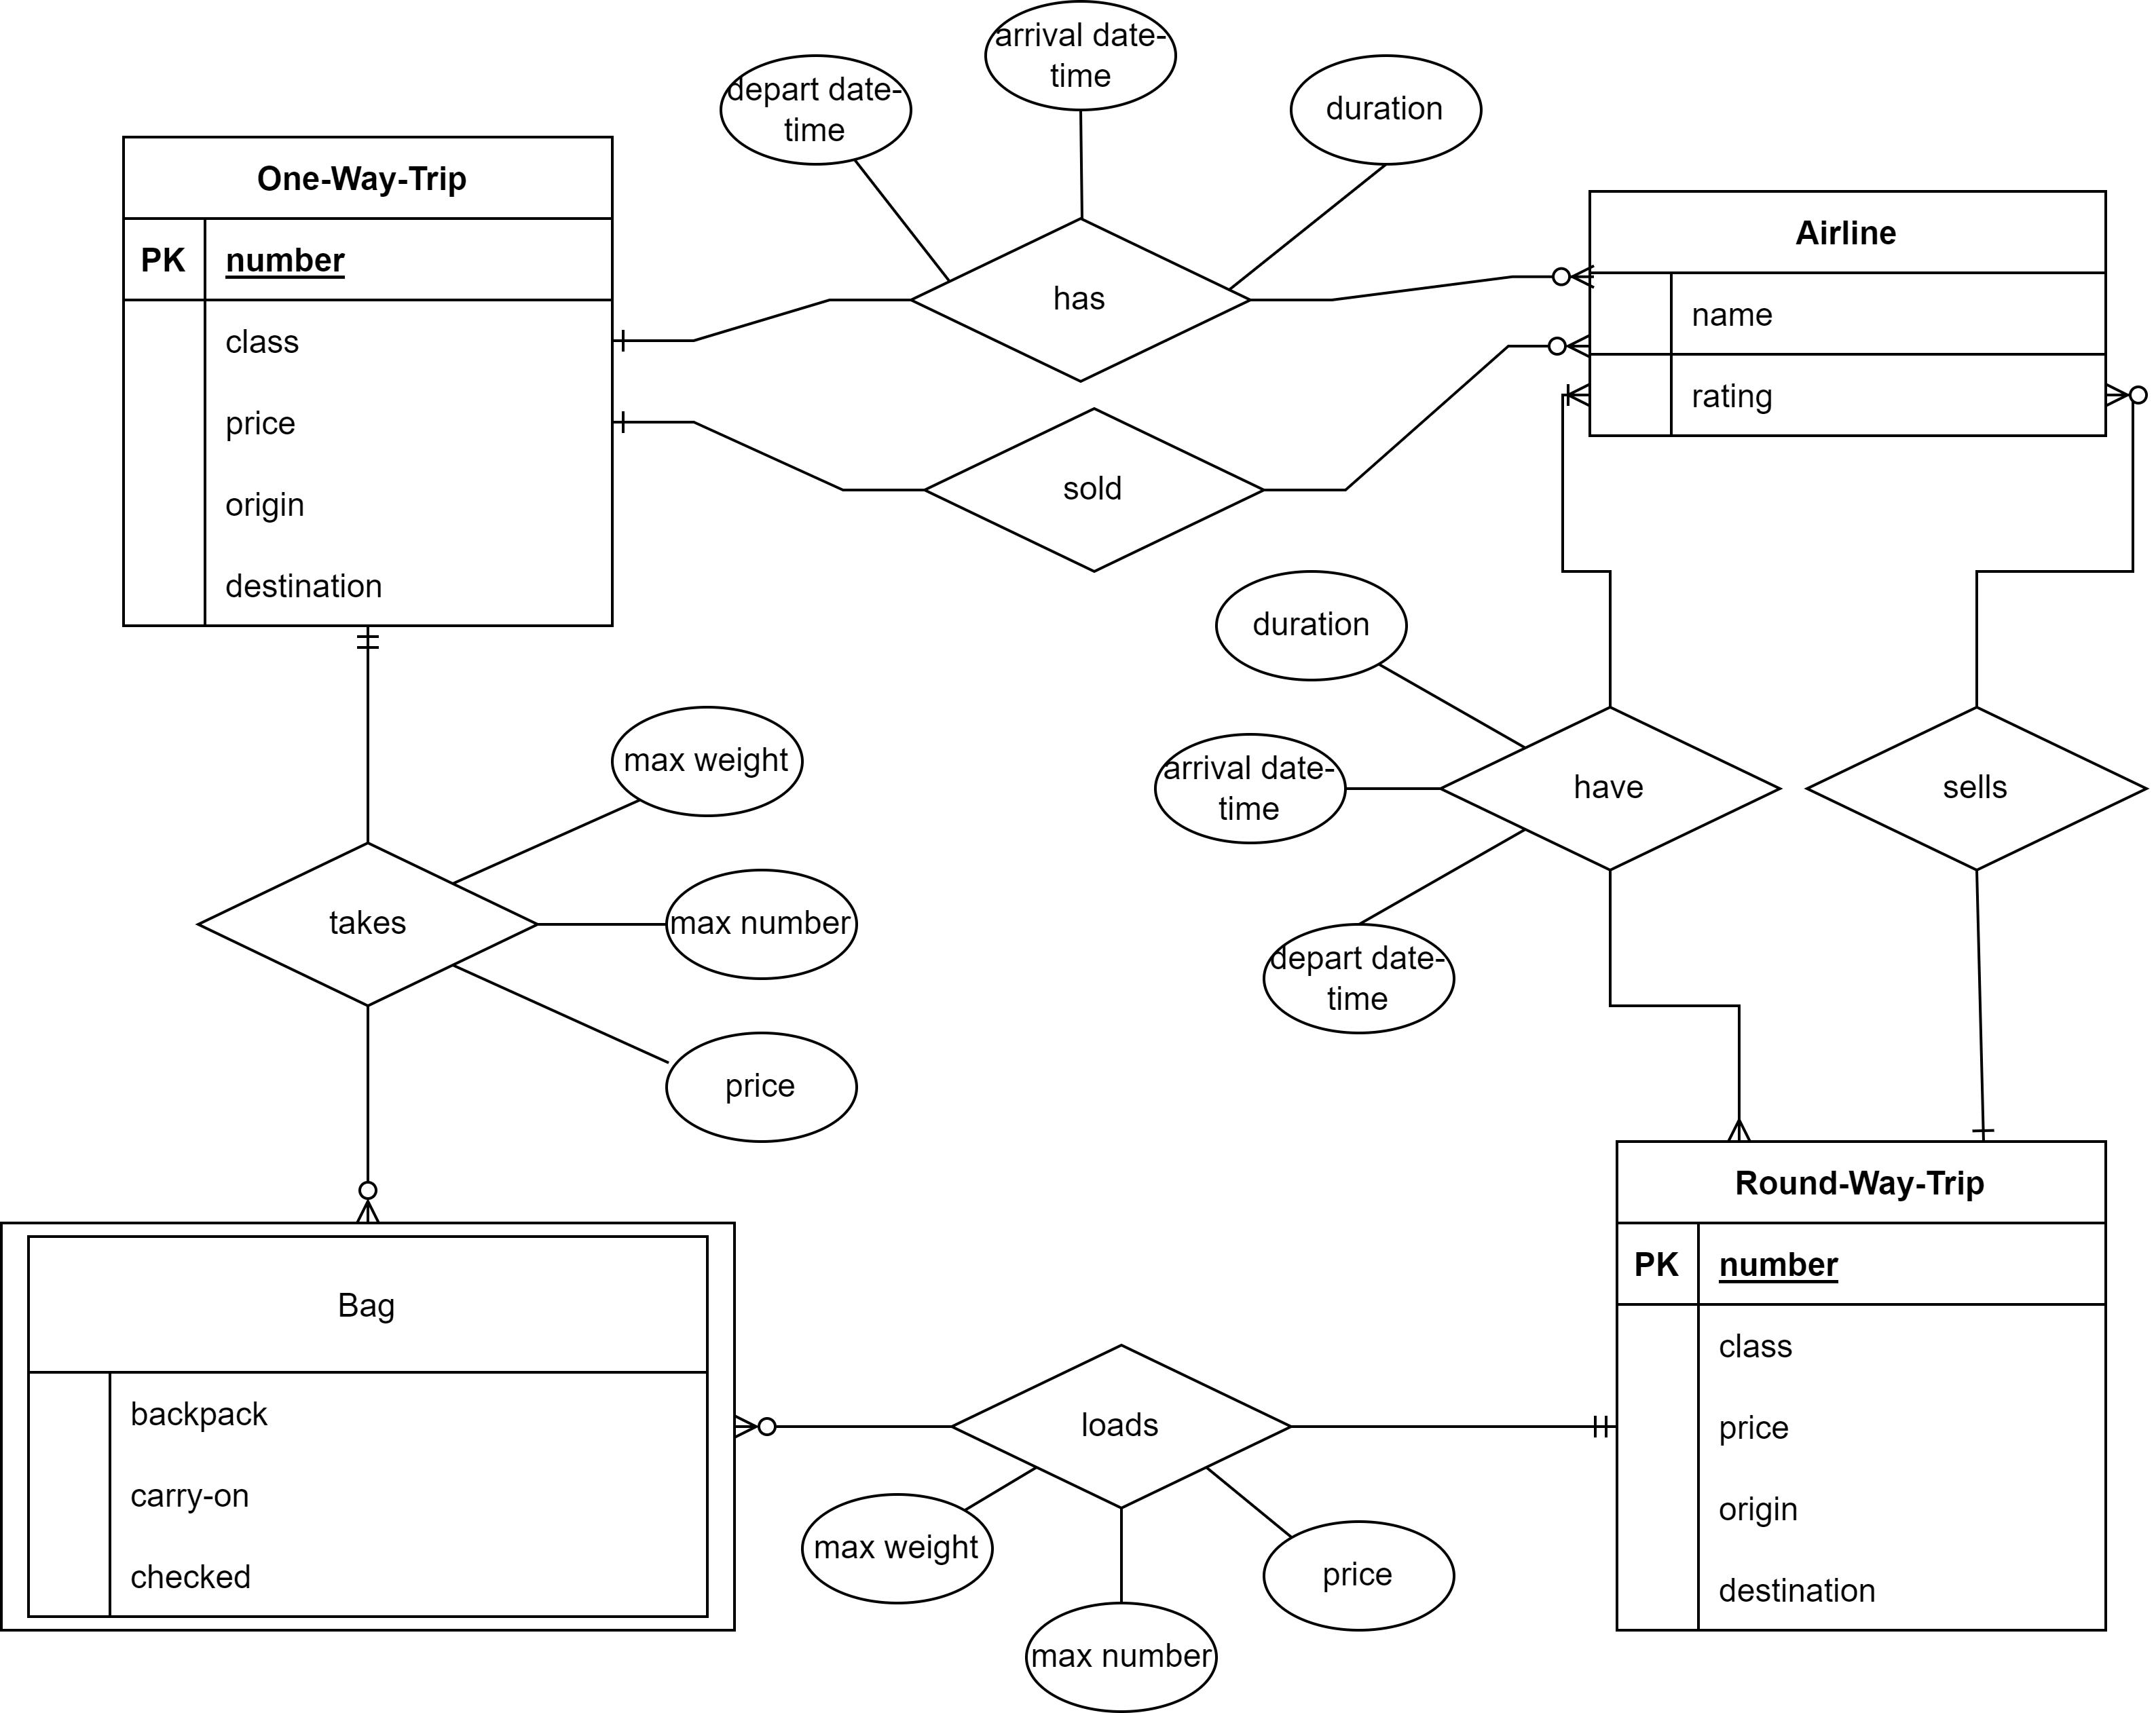attribute: (987, 0, 1181, 115), (1288, 56, 1484, 168), (665, 1029, 859, 1141), (1214, 570, 1410, 681), (1151, 735, 1344, 847), (609, 705, 801, 817), (717, 56, 915, 164), (1029, 1601, 1220, 1713), (1263, 1521, 1456, 1629), (1265, 924, 1454, 1034), (803, 1494, 994, 1603), (667, 871, 854, 980)
entity: (114, 131, 616, 635), (1613, 1137, 2114, 1636), (1584, 187, 2109, 436)
relationship: (1801, 698, 2152, 875), (201, 843, 539, 1011), (905, 224, 1251, 383), (957, 1346, 1288, 1507), (1444, 710, 1785, 866), (926, 413, 1256, 572)
weakentity: (0, 1218, 735, 1641)
